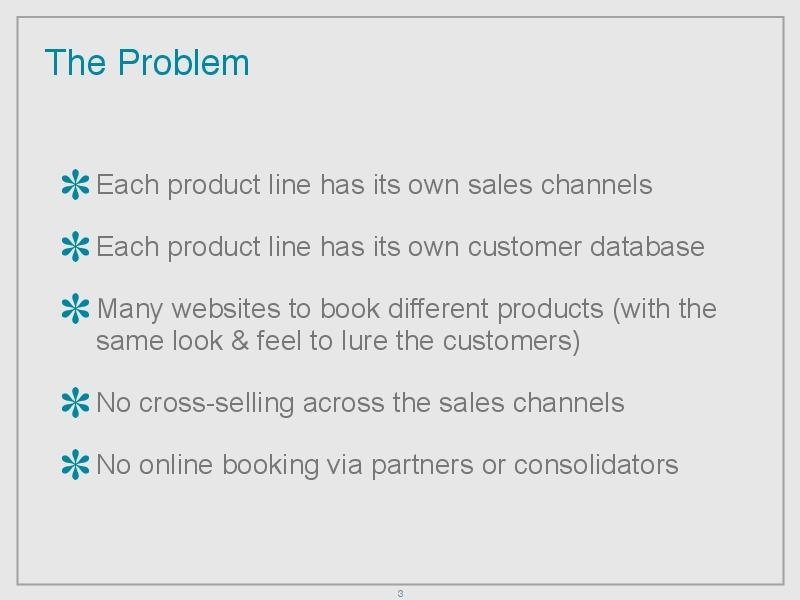paragraph: (49, 146, 752, 508)
title: (37, 42, 258, 86)
